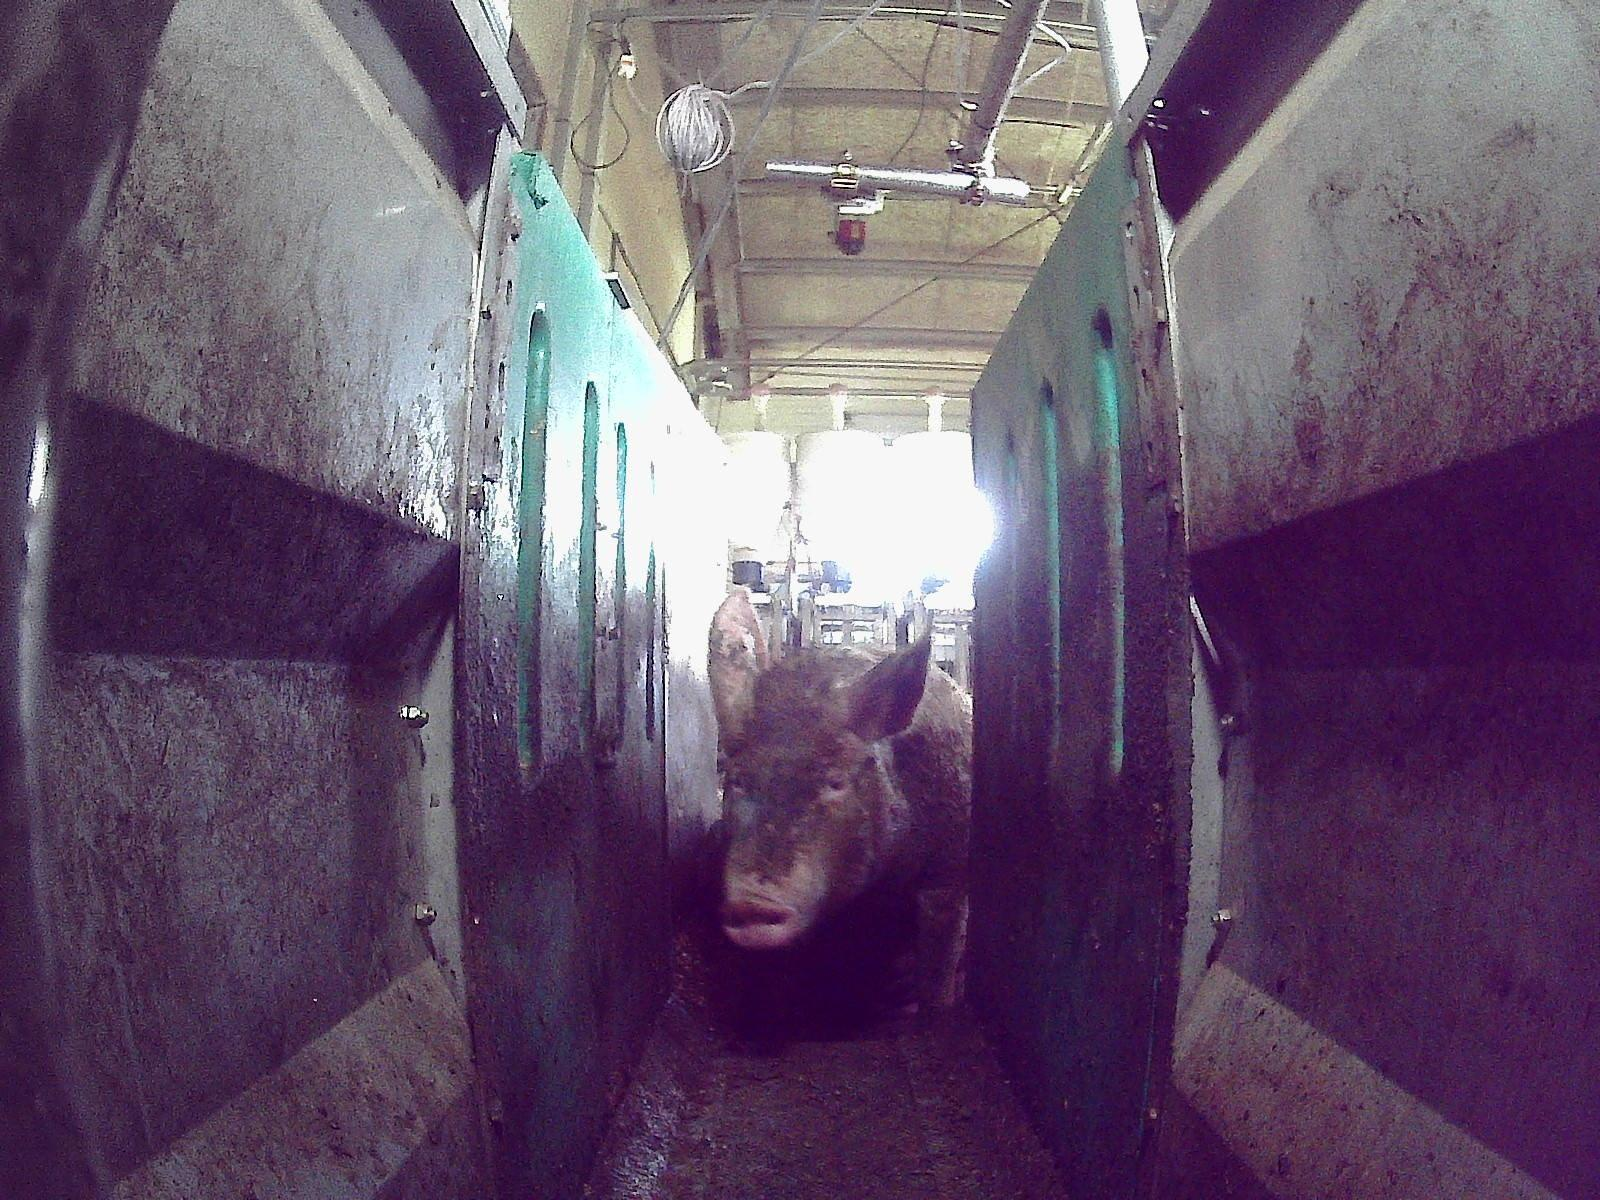Face: (712, 676, 904, 946)
